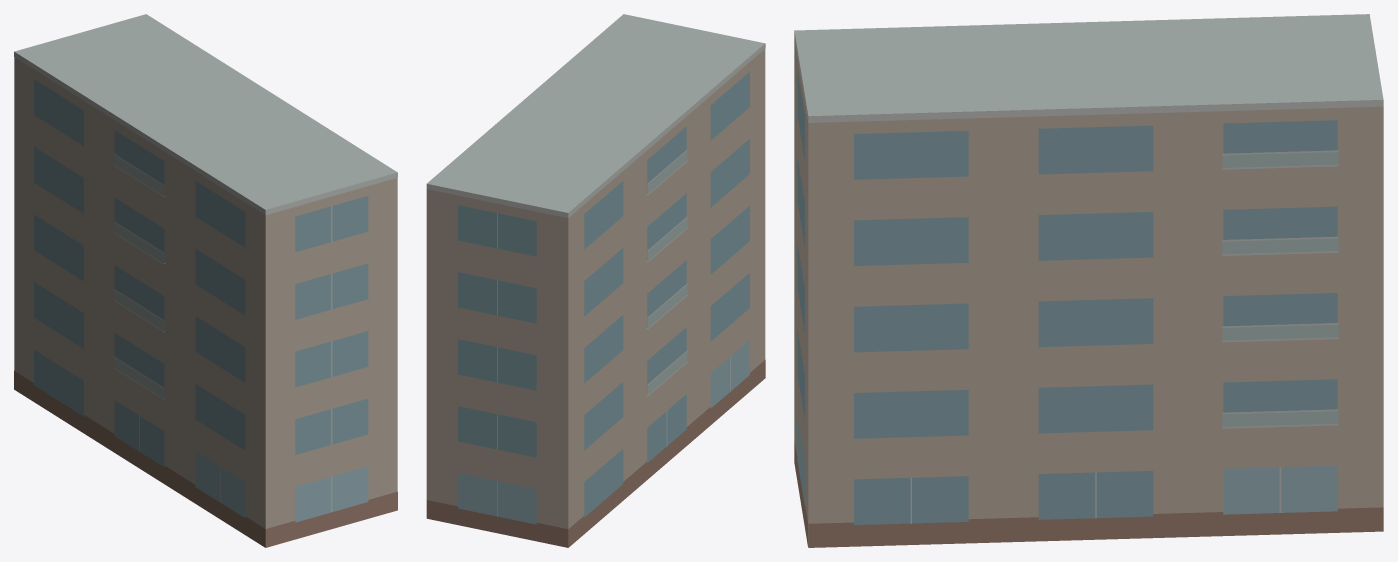
File: survey-upis-32915729.glb
3 views of the same model, side by side, from view 1: azimuth 30°, elevation 25°; view 2: azimuth 150°, elevation 25°; view 3: azimuth 270°, elevation 25° (orthographic). The views are drawn at different scales.
Visible parts, largest first — view 1: survey-upis-32915729.tmp; view 2: survey-upis-32915729.tmp; view 3: survey-upis-32915729.tmp.
Part boxes in pixels (x1,y1,x2,y2): survey-upis-32915729.tmp: [14, 14, 397, 547]; survey-upis-32915729.tmp: [426, 14, 765, 547]; survey-upis-32915729.tmp: [794, 14, 1383, 547].
Bounding box in the file's own units: 7.88 × 15.5 × 19.18.
